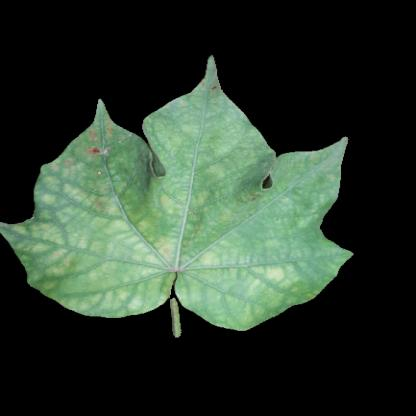curl_stage1: (44, 175, 290, 306), (68, 187, 198, 271), (225, 252, 321, 303), (170, 109, 244, 174), (297, 150, 338, 217), (85, 132, 133, 184)
